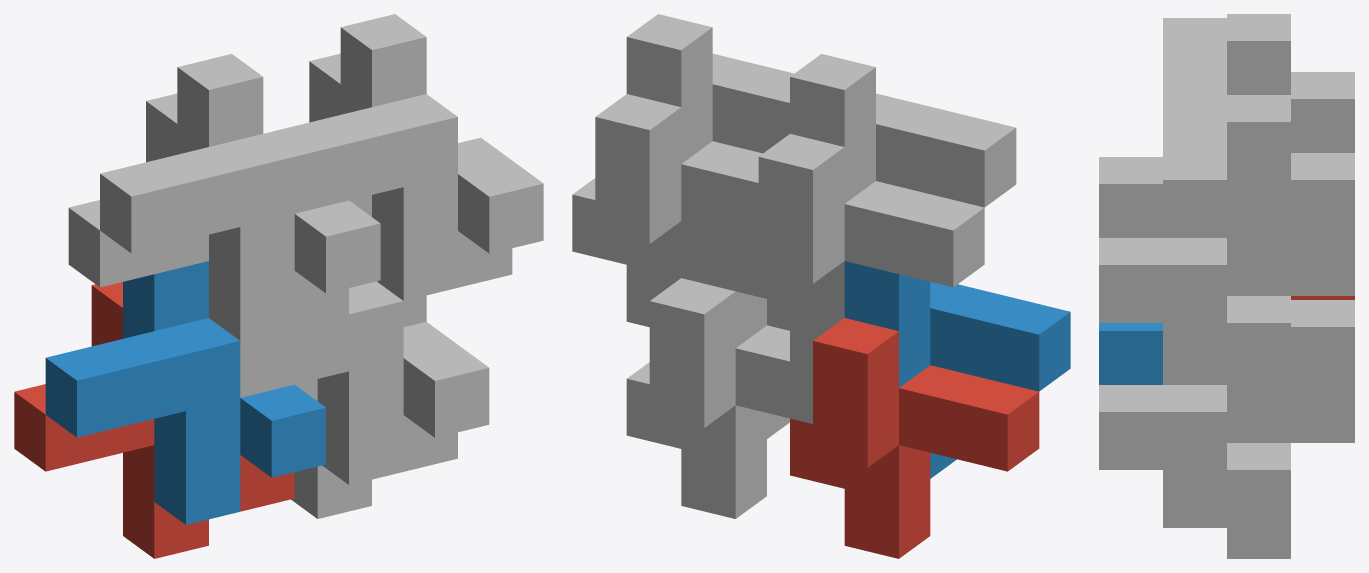
Rendered from tiling.obj.
3 views of the same model, side by side, from view 1: azimuth 30°, elevation 25°; view 2: azimuth 150°, elevation 25°; view 3: azimuth 270°, elevation 25° (orthographic).
Visible parts, largest first — view 1: copy_1_domain_4, copy_1_domain_8, copy_1_domain_2, copy_1_domain_6, copy_1_domain_1, copy_1_domain_3, copy_1_domain_5, copy_1_domain_7; view 2: copy_1_domain_1, copy_1_domain_3, copy_1_domain_5, copy_1_domain_7, copy_1_domain_4, copy_1_domain_2, copy_1_domain_8, copy_1_domain_6; view 3: copy_1_domain_8, copy_1_domain_7, copy_1_domain_5, copy_1_domain_4, copy_1_domain_6, copy_1_domain_3, copy_1_domain_2.
Part boxes in pixels (<box>): copy_1_domain_4: <box>100,54,380,340</box>; copy_1_domain_8: <box>263,14,543,300</box>; copy_1_domain_2: <box>45,261,325,524</box>; copy_1_domain_6: <box>240,281,489,484</box>; copy_1_domain_1: <box>14,282,294,558</box>; copy_1_domain_3: <box>68,93,348,327</box>; copy_1_domain_5: <box>291,379,457,518</box>; copy_1_domain_7: <box>309,53,512,326</box>; copy_1_domain_1: <box>790,318,1039,558</box>; copy_1_domain_3: <box>735,134,984,366</box>; copy_1_domain_5: <box>626,278,812,518</box>; copy_1_domain_7: <box>572,94,762,327</box>; copy_1_domain_4: <box>790,54,1016,207</box>; copy_1_domain_2: <box>844,261,1070,478</box>; copy_1_domain_8: <box>626,14,794,163</box>; copy_1_domain_6: <box>681,221,789,438</box>; copy_1_domain_8: <box>1099,95,1290,322</box>; copy_1_domain_7: <box>1163,153,1354,411</box>; copy_1_domain_5: <box>1163,300,1354,558</box>; copy_1_domain_4: <box>1099,14,1290,237</box>; copy_1_domain_6: <box>1099,381,1226,469</box>; copy_1_domain_3: <box>1291,72,1354,152</box>; copy_1_domain_2: <box>1099,323,1162,384</box>.
Bounding box in the file's own units: 8 × 8 × 4.
